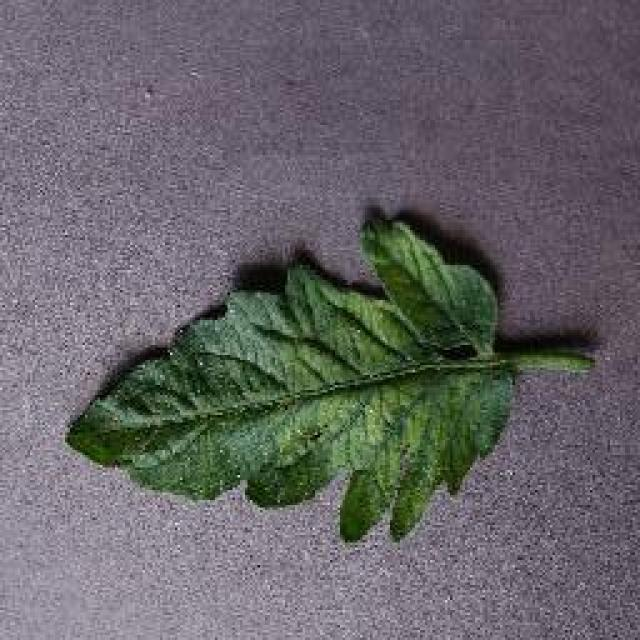Tomato spider mites leaf: (70, 223, 528, 545)
